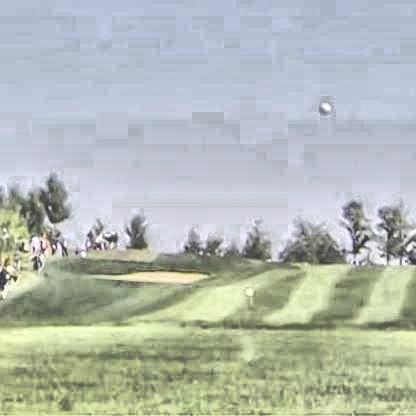golfball: (315, 100, 327, 112)
